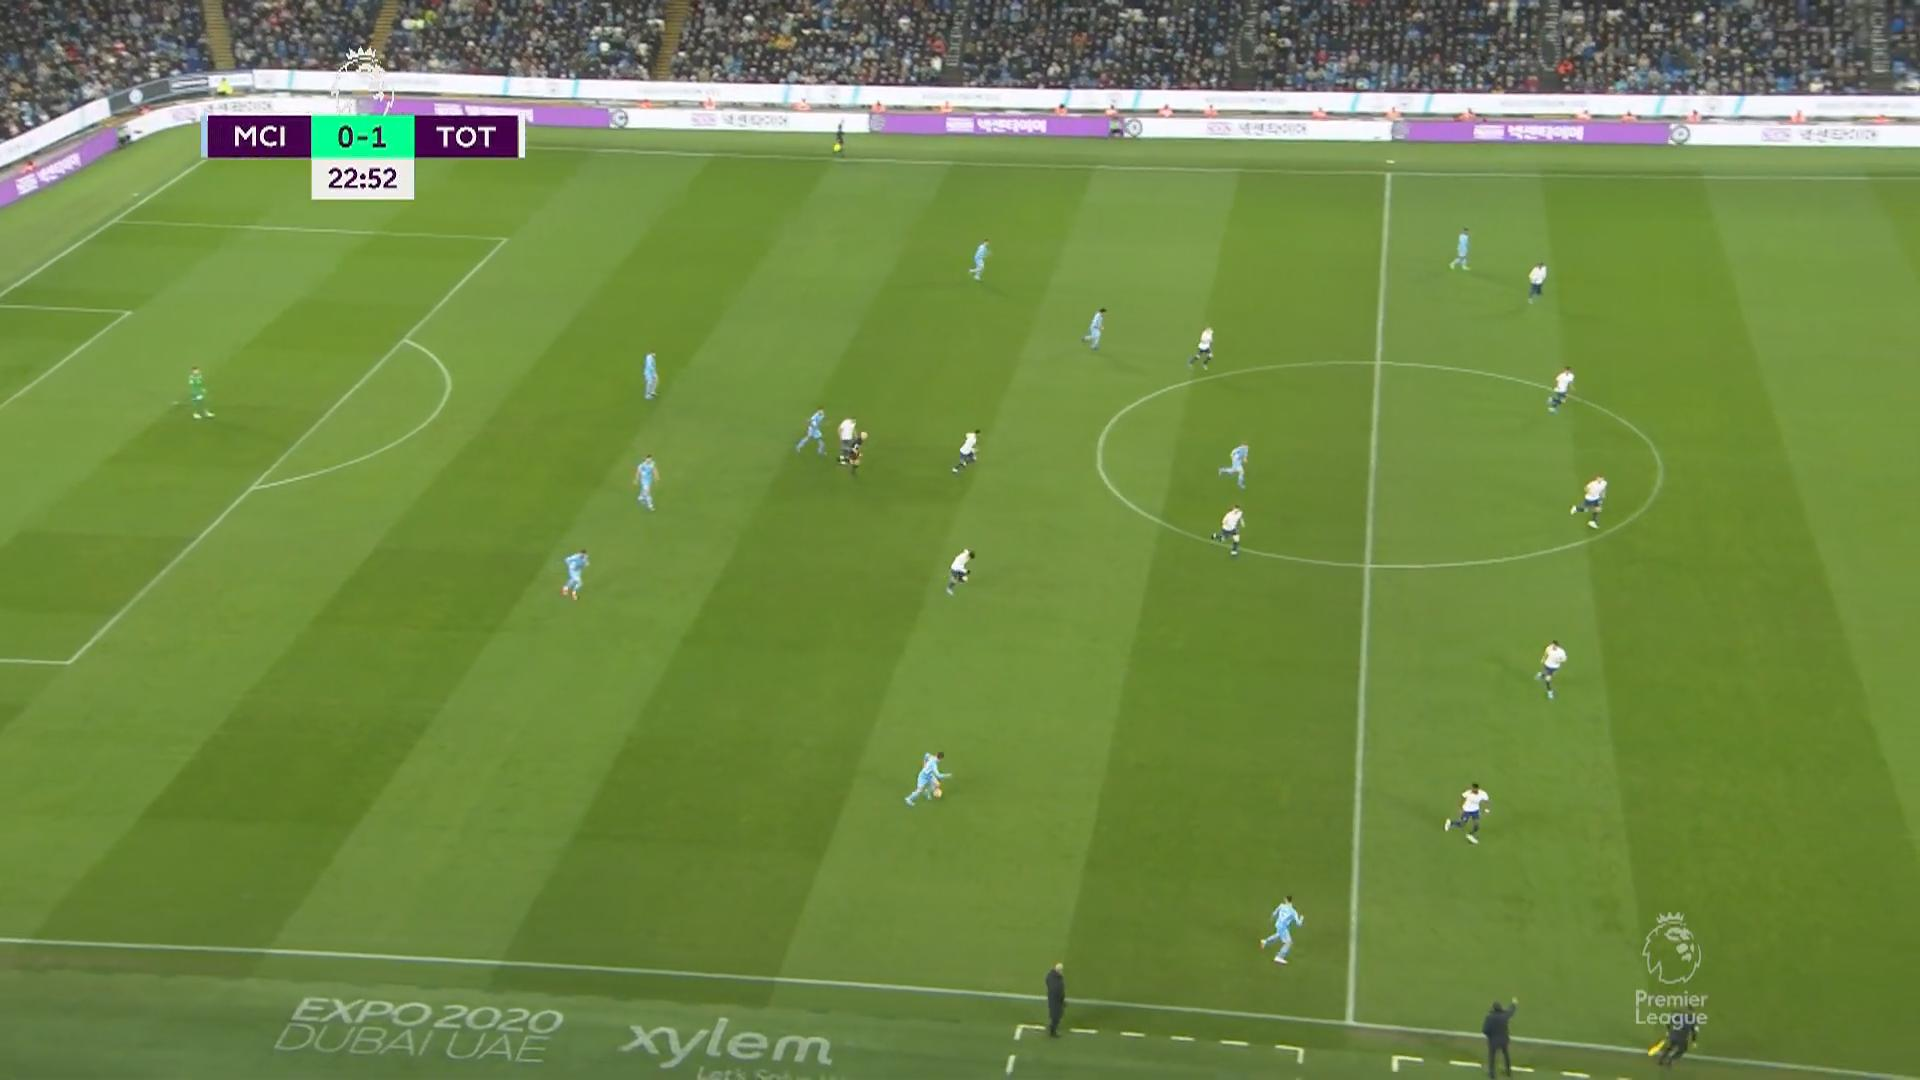ball: (933, 787, 942, 799)
goalkeeper: (186, 365, 214, 420)
player: (1258, 894, 1304, 964), (1442, 781, 1490, 844), (903, 749, 952, 806), (1569, 473, 1607, 529), (1535, 639, 1567, 699), (1211, 503, 1245, 556), (794, 406, 827, 456), (559, 547, 589, 600), (633, 453, 659, 511), (944, 547, 975, 595), (1217, 442, 1249, 488), (1546, 365, 1575, 413), (950, 428, 980, 473), (836, 415, 860, 464), (1188, 324, 1214, 369), (1081, 306, 1106, 349), (1448, 226, 1470, 270), (641, 349, 659, 400), (969, 238, 990, 281), (1526, 261, 1547, 302)
referee: (1482, 995, 1518, 1076), (1044, 961, 1066, 1036), (842, 431, 868, 478)
